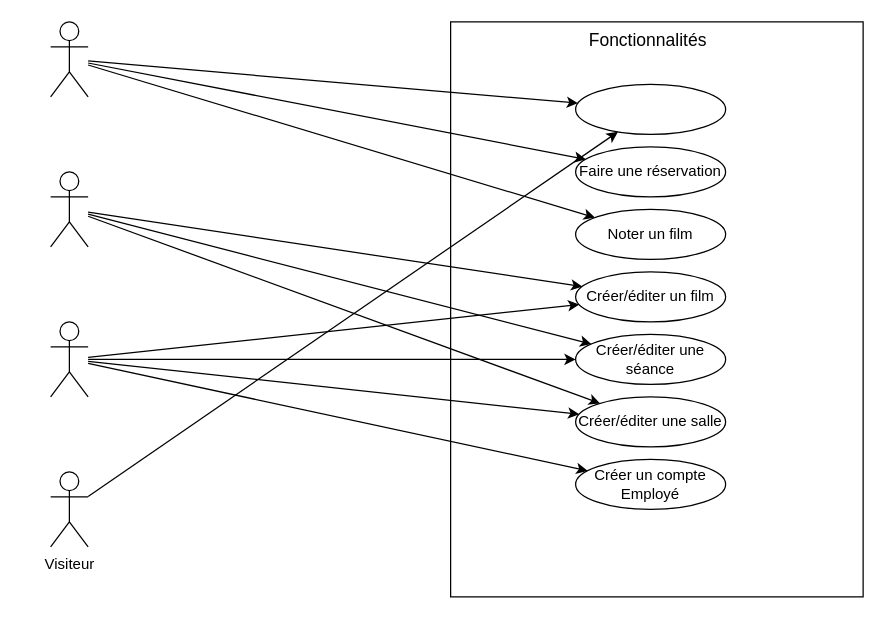
Image size: 885x619. Some labels were removed from this diagram. Here are the shapes that lost their labels. From the top down, the box of each, then its label:
(49, 21, 88, 97): Utilisateur
(574, 83, 726, 134): Consulter un Film
(49, 171, 88, 247): Employé
(49, 321, 88, 397): Administrateur
